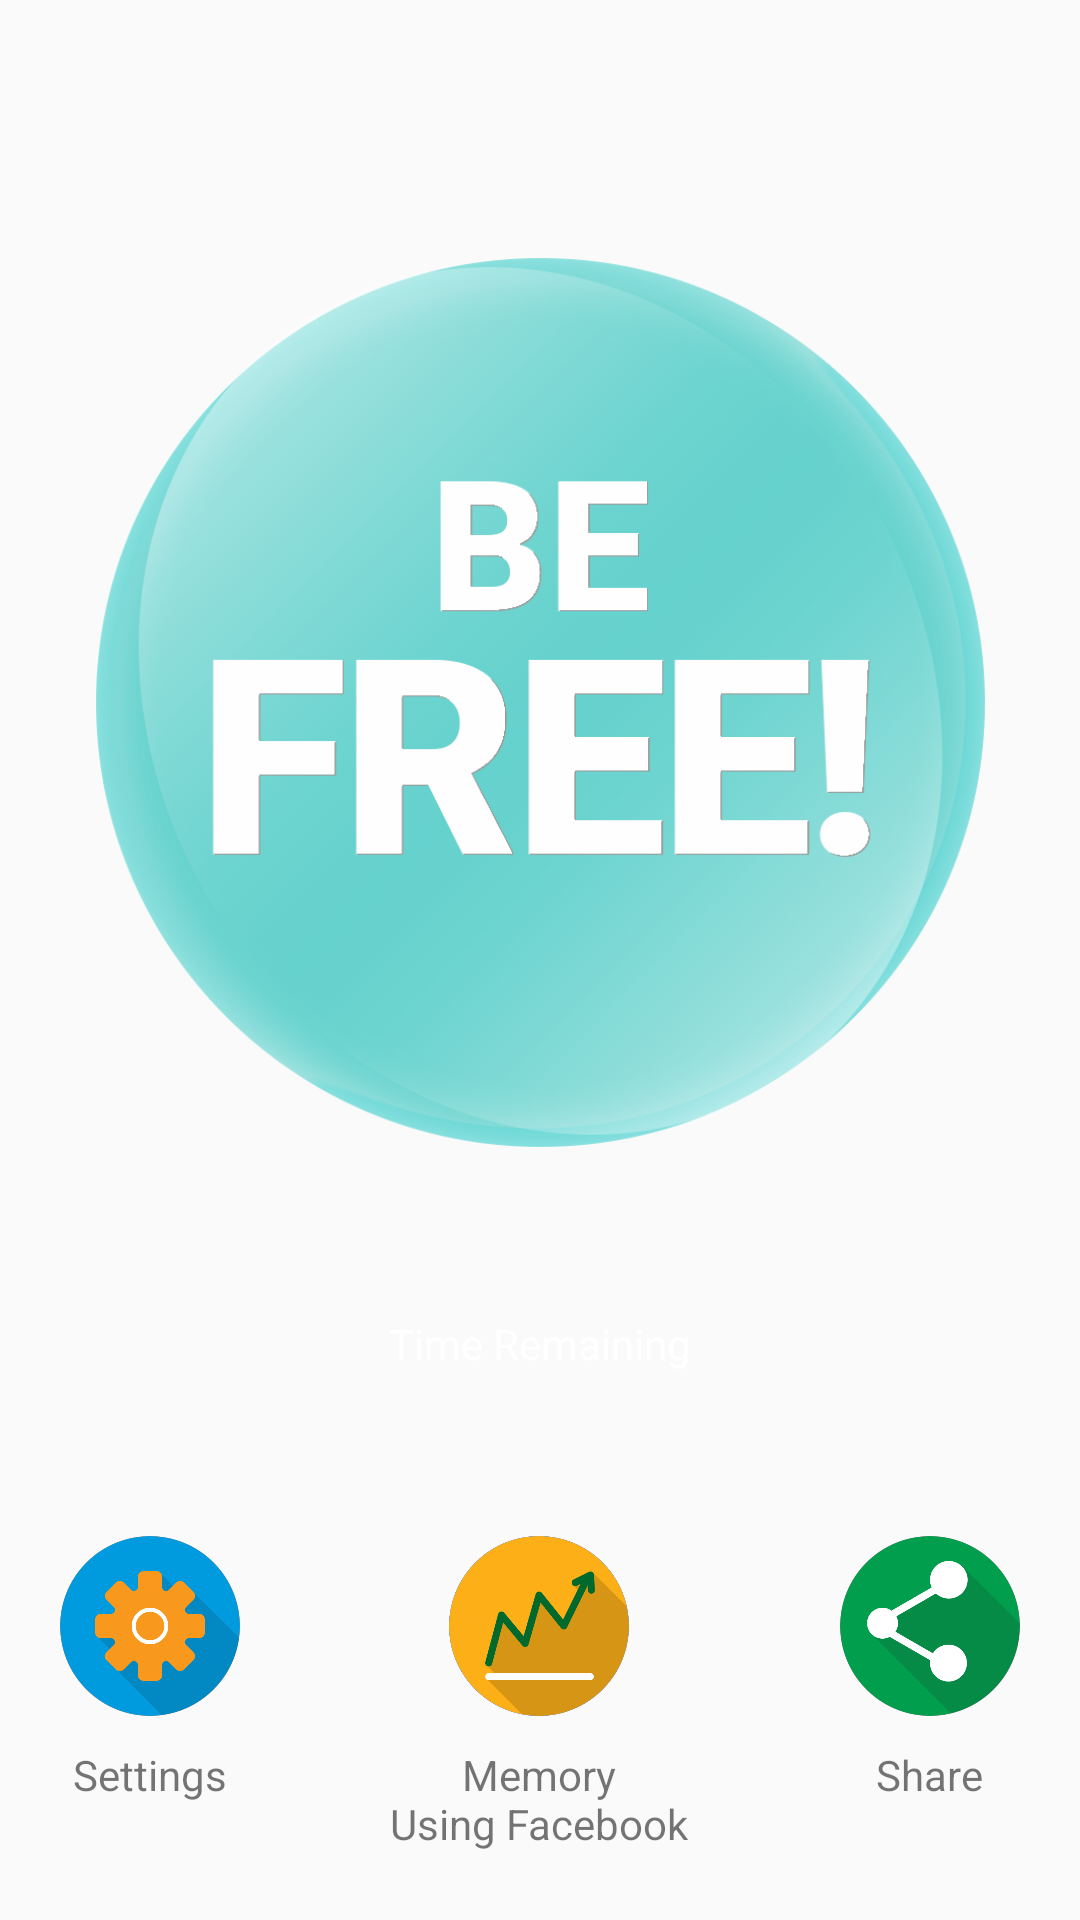

Named icons in this screenshot (1080 × 1920) and their bounding boxes, (x1, y1, x2, y2):
graph: (449, 1536, 629, 1716)
